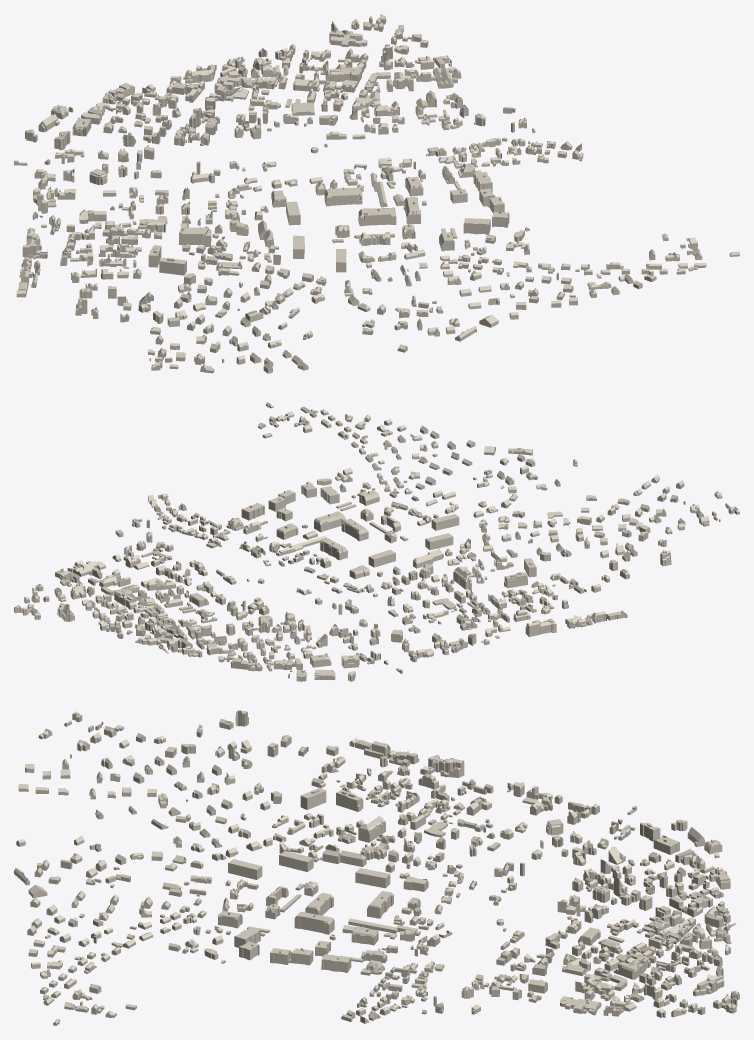
3 views of the same model, one above another, from view 1: azimuth 30°, elevation 25°; view 2: azimuth 150°, elevation 25°; view 3: azimuth 270°, elevation 25° (orthographic). The views are drawn at different scales.
Size of the model in its own units: 866 by 58.87 by 913.
